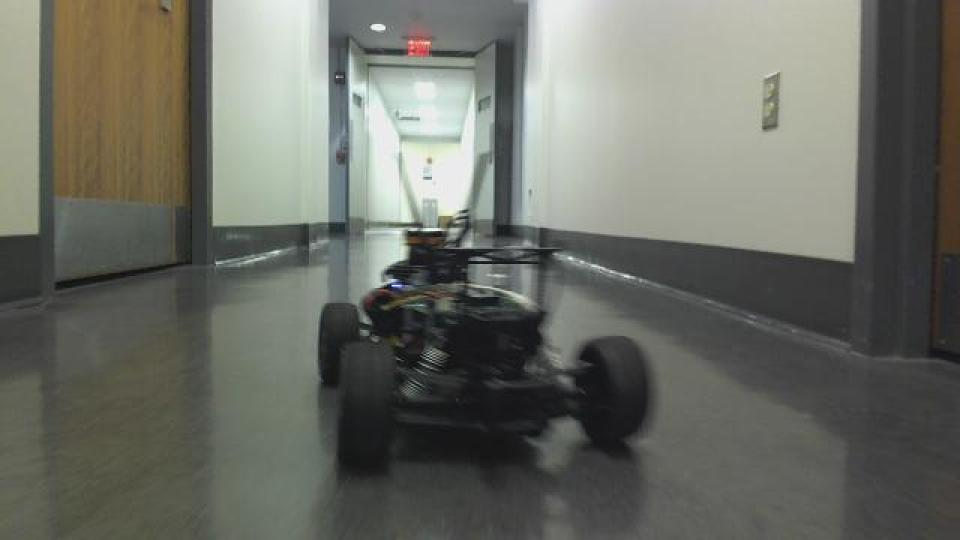car: (314, 235, 652, 471)
